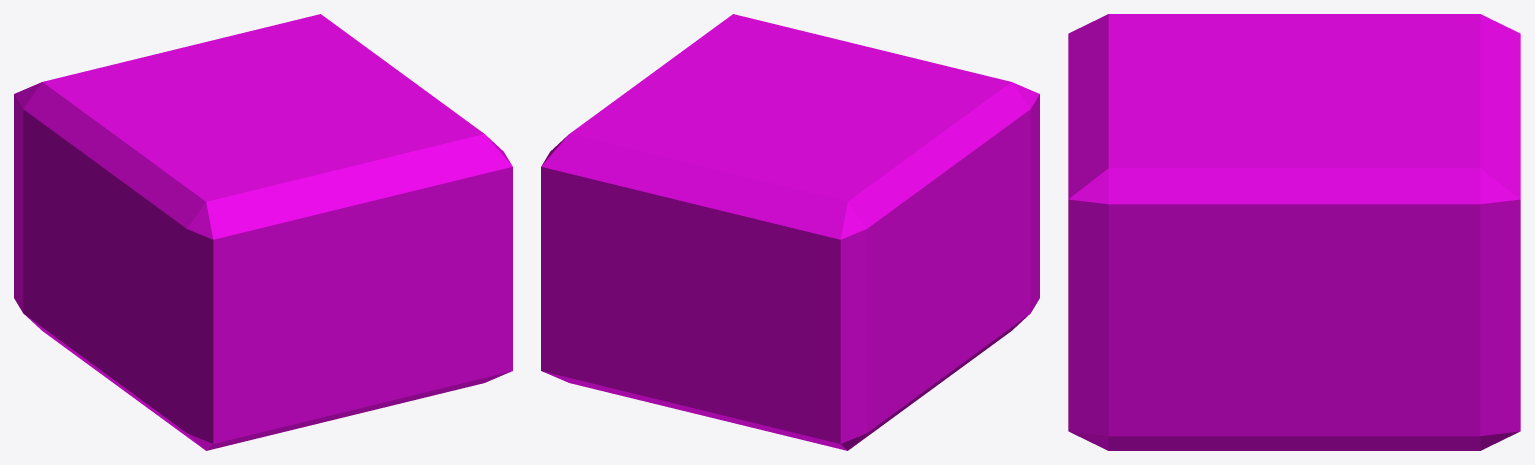
Rendered from PillarFeetRock.fbx.
3 views of the same model, side by side, from view 1: azimuth 30°, elevation 25°; view 2: azimuth 150°, elevation 25°; view 3: azimuth 270°, elevation 25° (orthographic). The views are drawn at different scales.
Visible parts, largest first — view 1: ColumnFeetRock; view 2: ColumnFeetRock; view 3: ColumnFeetRock.
Boxes of the visible parts, x1,y1,x2,y2 form: ColumnFeetRock: (14,14,512,450); ColumnFeetRock: (541,14,1039,450); ColumnFeetRock: (1068,14,1520,450).
Bounding box in the file's own units: 3.39 × 2.55 × 3.69.
